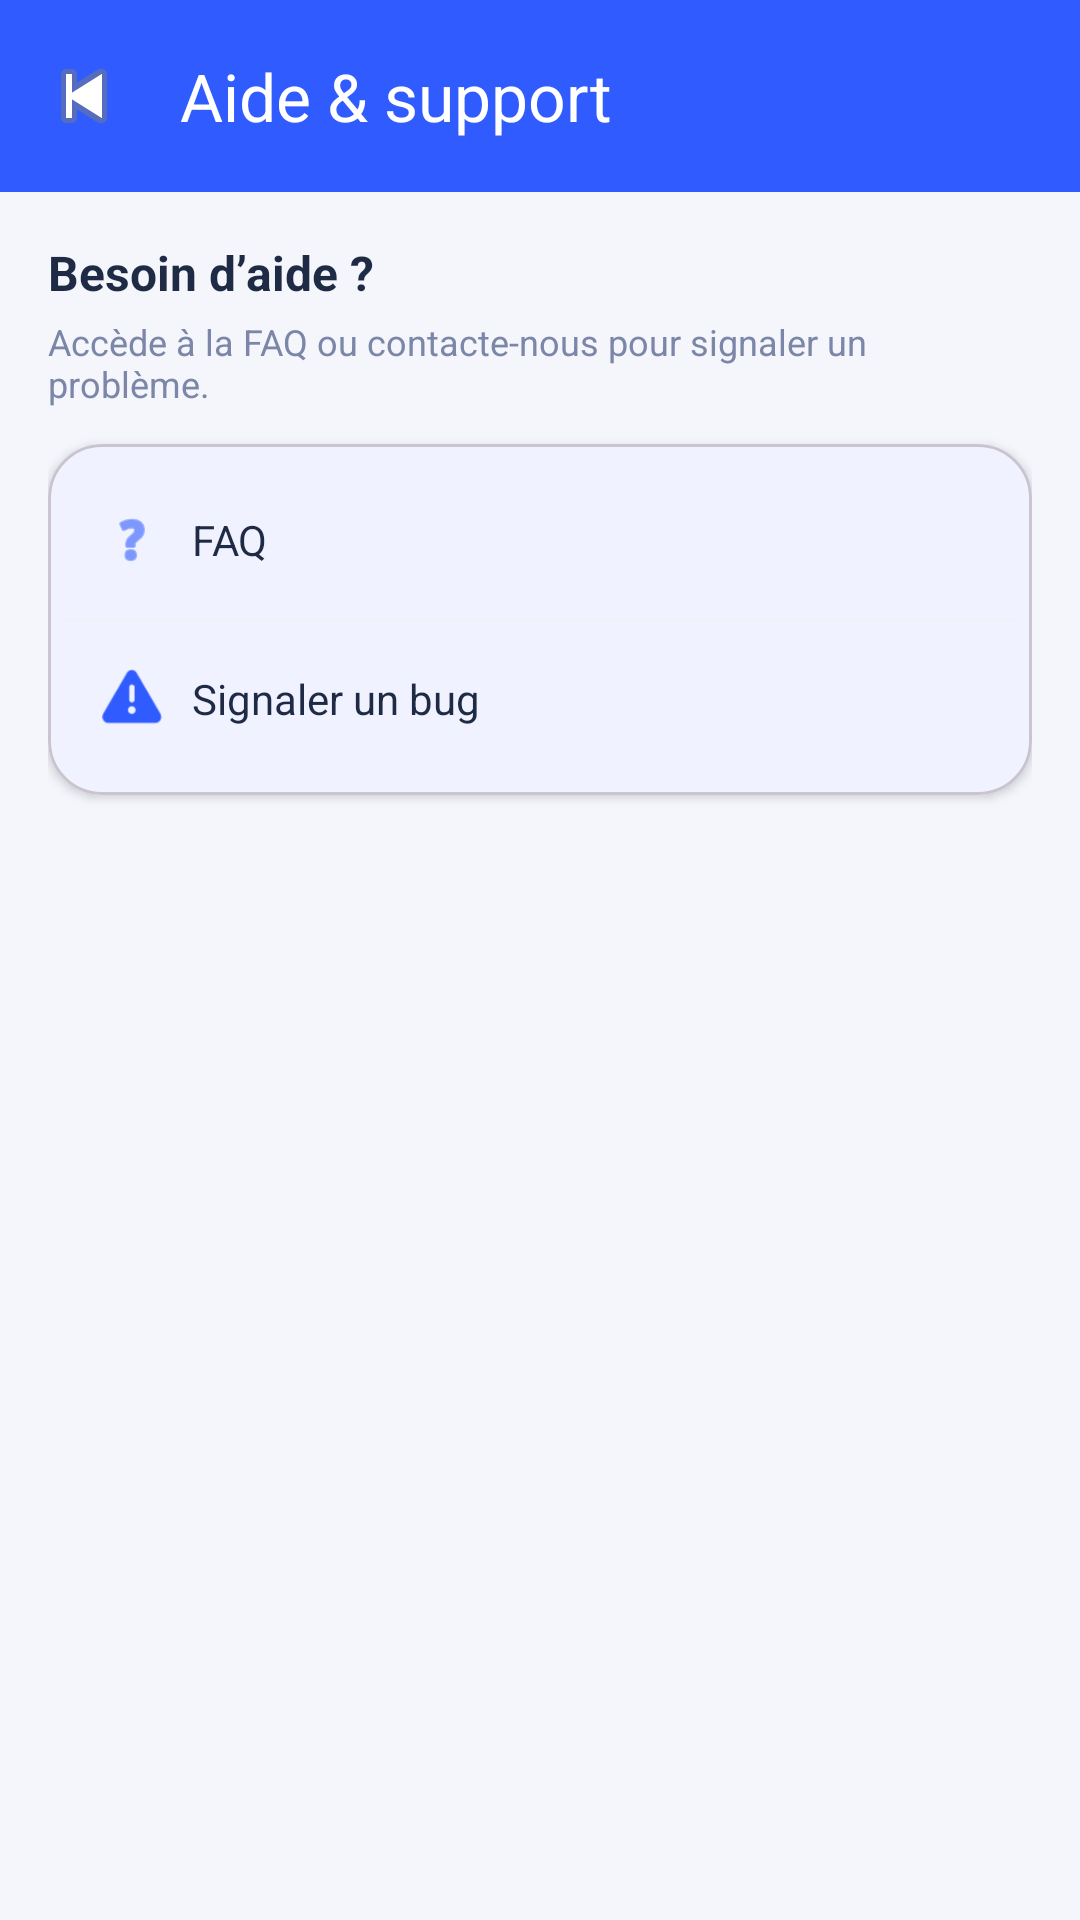

Point at icon controls on the screen. Image size 1080*1920, points as point (x, y).
alert: point (132, 696)
help: point (132, 540)
